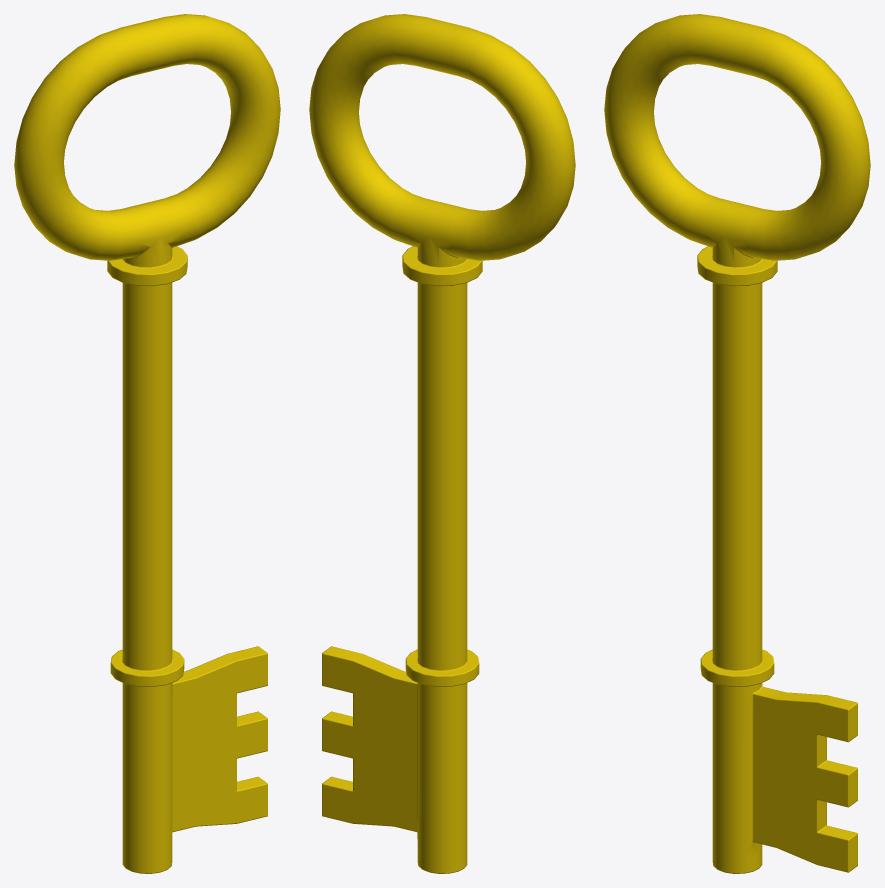
The model's file is key.fbx.
The picture shows the model from 3 angles, left to right: view 1: azimuth 30°, elevation 25°; view 2: azimuth 150°, elevation 25°; view 3: azimuth 330°, elevation 25°; orthographic projection.
Parts seen in each view (by area): view 1: Cylinder; view 2: Cylinder; view 3: Cylinder.
Part boxes in pixels (x1,y1,x2,y2): Cylinder: (14, 14, 280, 873); Cylinder: (309, 14, 575, 873); Cylinder: (604, 14, 870, 873).
Size of the model in its own units: 8.23 by 25.37 by 2.21.
